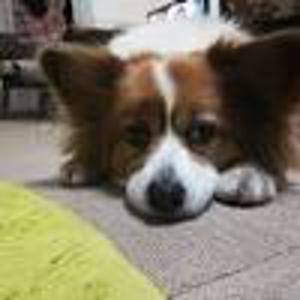yell: (38, 20, 300, 221)
